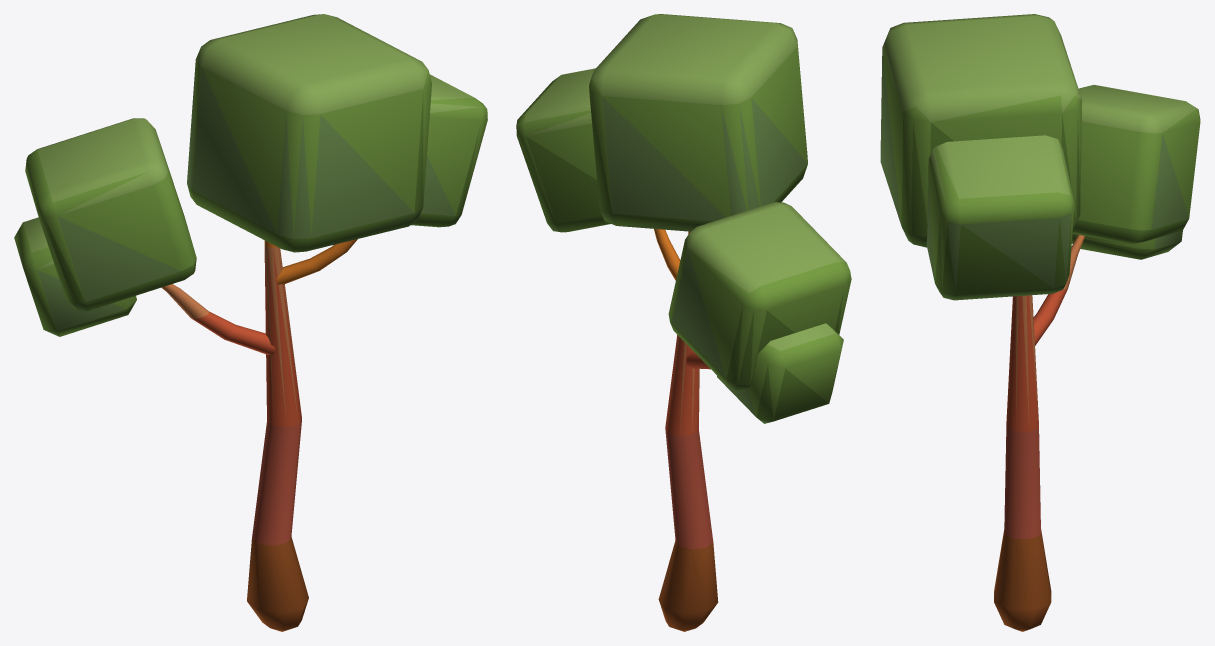
The model's file is itch_kaykit_forest_tree_2_c_color1.glb.
3 renders of one model, left to right at view 1: azimuth 30°, elevation 25°; view 2: azimuth 150°, elevation 25°; view 3: azimuth 270°, elevation 25°, orthographic. The views are drawn at different scales.
Visible parts, largest first — view 1: Tree_2_C_Color1; view 2: Tree_2_C_Color1; view 3: Tree_2_C_Color1.
Boxes of the visible parts, x1,y1,x2,y2 form: Tree_2_C_Color1: (14,14,487,631); Tree_2_C_Color1: (516,14,851,631); Tree_2_C_Color1: (880,14,1200,631).
Size of the model in its own units: 1.22 by 1.84 by 0.9017.
